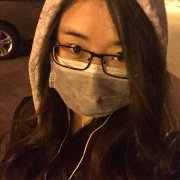face_mask: (52, 0, 141, 118)
